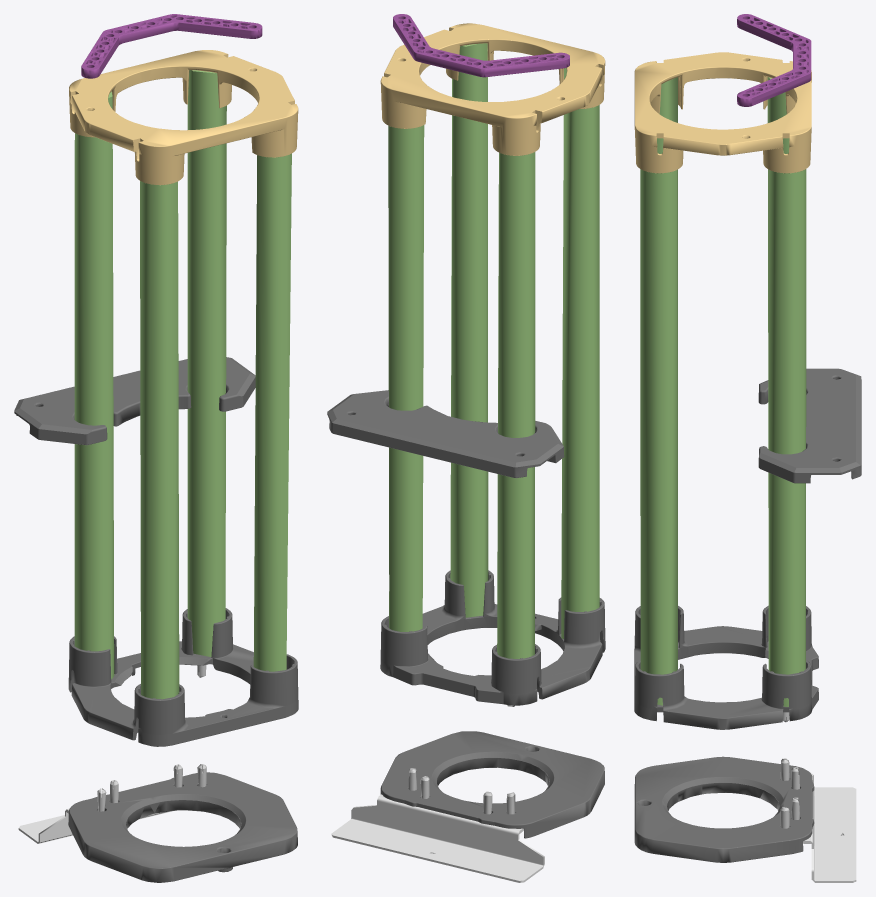
The model's file is flower.glb.
3 views of the same model, side by side, from view 1: azimuth 30°, elevation 25°; view 2: azimuth 150°, elevation 25°; view 3: azimuth 270°, elevation 25° (orthographic). The views are drawn at different scales.
Parts seen in each view (by area): view 1: am-5862: Flower HIPS Pipe, am-5858: Flower Layer B, am-5857: Flower Layer C, am-5884: Flower Backstop, am-5861: Flower Under Field Bracket, am-1310: FHTS, 1/4-20 x 3/4in; view 2: am-5862: Flower HIPS Pipe, am-5858: Flower Layer B, am-5857: Flower Layer C, am-5861: Flower Under Field Bracket, am-5884: Flower Backstop, am-1310: FHTS, 1/4-20 x 3/4in; view 3: am-5862: Flower HIPS Pipe, am-5858: Flower Layer B, am-5857: Flower Layer C, am-5861: Flower Under Field Bracket, am-5884: Flower Backstop, am-1310: FHTS, 1/4-20 x 3/4in.
Part boxes in pixels (x1,y1,x2,y2): am-5862: Flower HIPS Pipe: (74, 70, 291, 699); am-5858: Flower Layer B: (14, 357, 298, 882); am-5857: Flower Layer C: (69, 50, 298, 185); am-5884: Flower Backstop: (81, 14, 262, 78); am-5861: Flower Under Field Bracket: (18, 808, 172, 843); am-1310: FHTS, 1/4-20 x 3/4in: (97, 665, 206, 811); am-5862: Flower HIPS Pipe: (388, 43, 599, 658); am-5858: Flower Layer B: (327, 390, 605, 838); am-5857: Flower Layer C: (380, 23, 605, 155); am-5861: Flower Under Field Bracket: (331, 794, 544, 882); am-5884: Flower Backstop: (393, 14, 569, 77); am-1310: FHTS, 1/4-20 x 3/4in: (408, 705, 515, 814); am-5862: Flower HIPS Pipe: (640, 77, 806, 706); am-5858: Flower Layer B: (634, 368, 861, 862); am-5857: Flower Layer C: (634, 52, 811, 173); am-5861: Flower Under Field Bracket: (803, 772, 856, 882); am-5884: Flower Backstop: (737, 14, 811, 106); am-1310: FHTS, 1/4-20 x 3/4in: (780, 712, 799, 828).
Size of the model in its own units: 0.1694 by 0.5919 by 0.1566.
